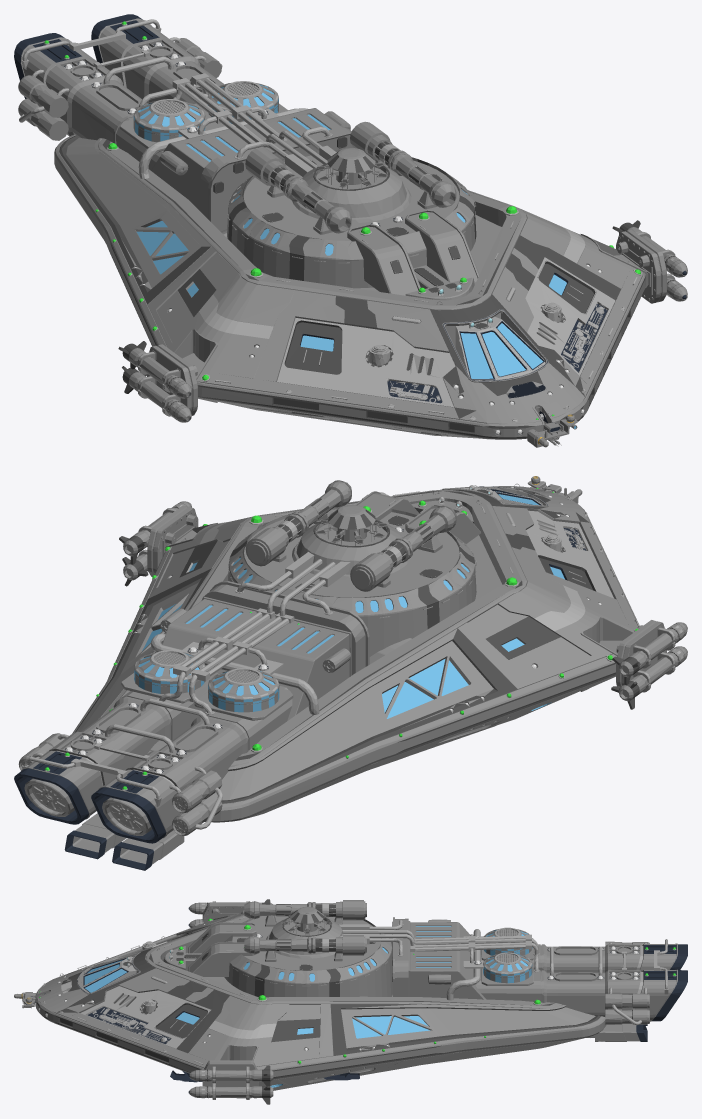
Rendered from SpaceShip.fbx.
The picture shows the model from 3 angles, top to bottom: view 1: azimuth 30°, elevation 25°; view 2: azimuth 150°, elevation 25°; view 3: azimuth 270°, elevation 25°; orthographic projection. The views are drawn at different scales.
Parts seen in each view (by area): view 1: SpaceShip; view 2: SpaceShip; view 3: SpaceShip.
Boxes of the visible parts, x1,y1,x2,y2 form: SpaceShip: [14, 14, 687, 447]; SpaceShip: [14, 476, 687, 870]; SpaceShip: [14, 899, 687, 1104].
Bounding box in the file's own units: 1078 × 389 × 1751.
